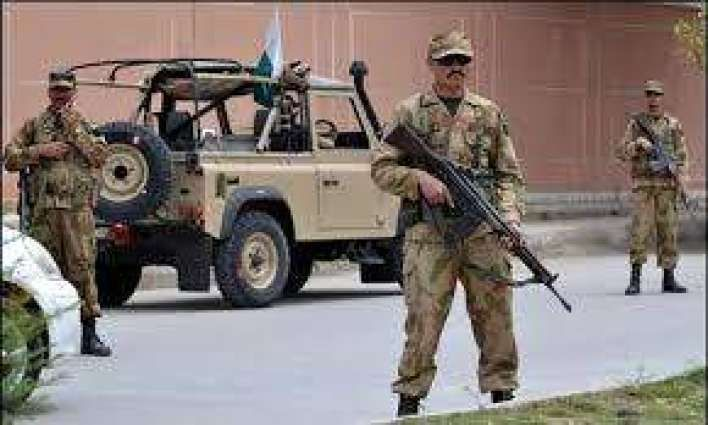gun: (383, 114, 578, 312), (624, 100, 697, 213)
uniform: (389, 18, 527, 391), (11, 66, 105, 344), (611, 62, 688, 289)
